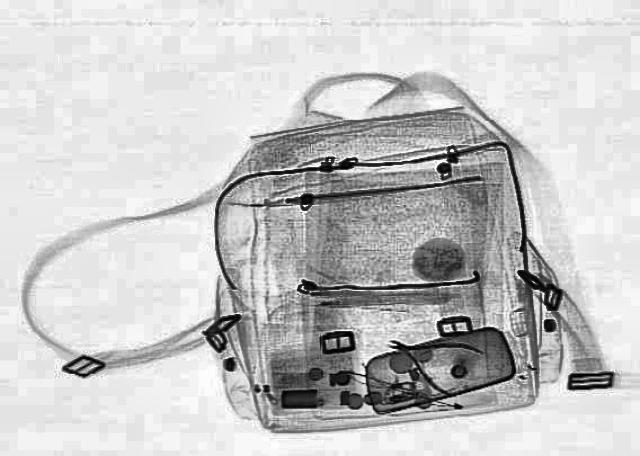Pliers: (366, 322, 489, 398)
